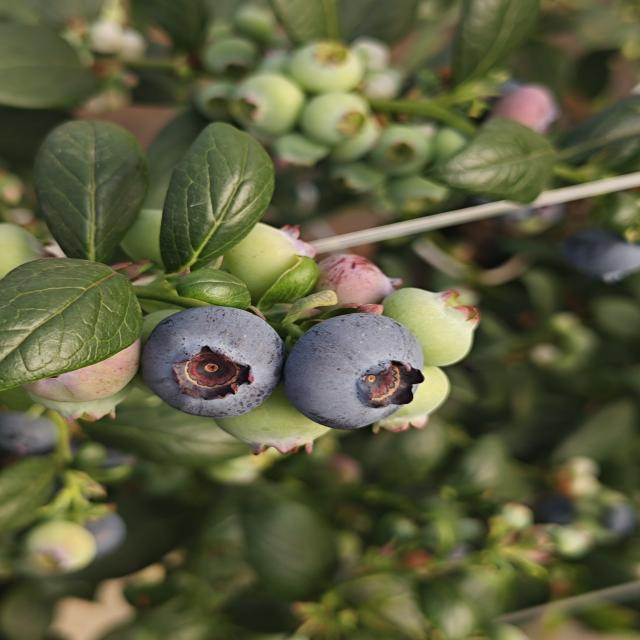ripe: (282, 311, 428, 432), (139, 304, 286, 420), (563, 219, 640, 285)
